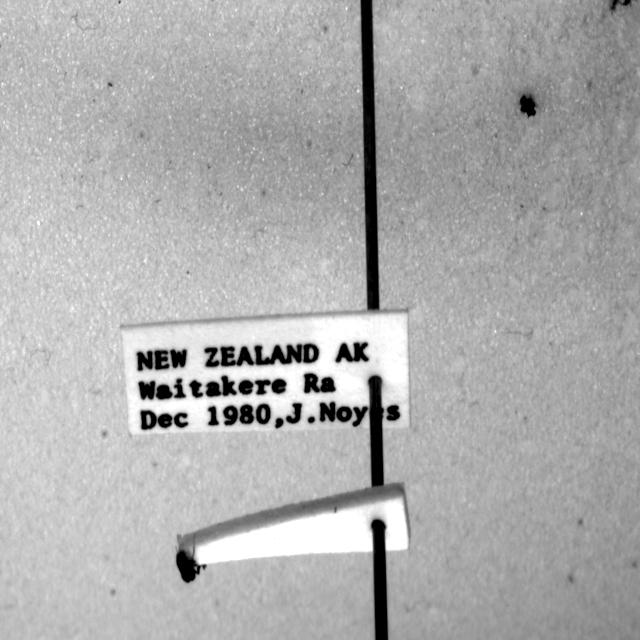typed_label: (121, 311, 410, 435)
